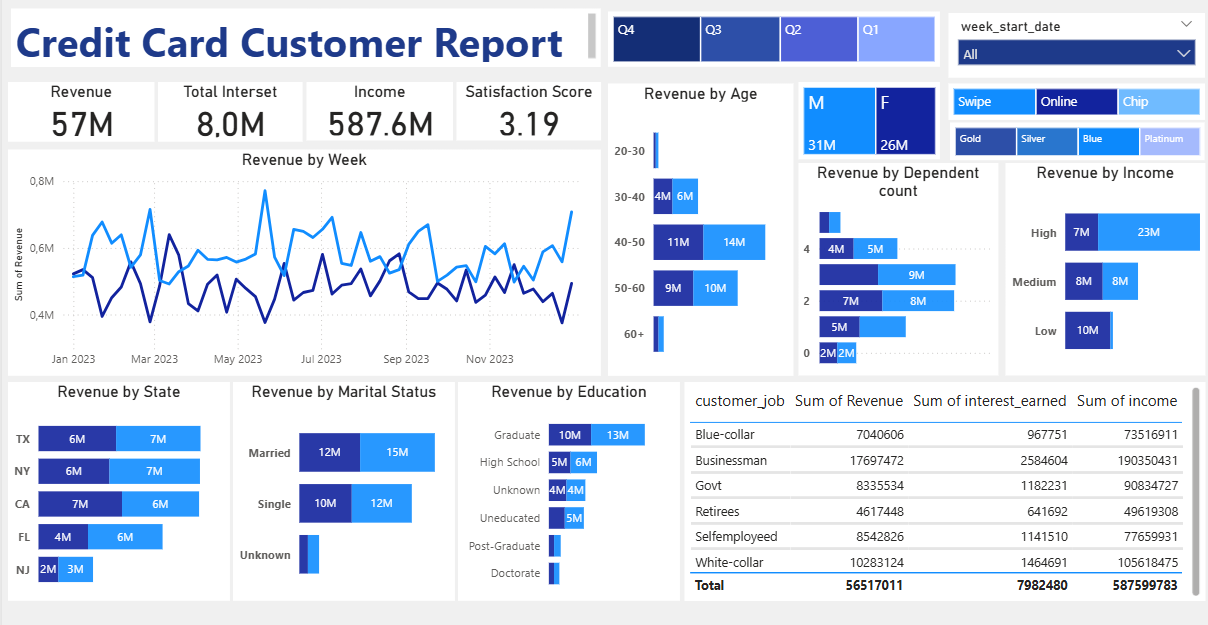

The page's visual inventory and layout, read from the dashboard file:
{"tool":"powerbi","page":{"name":"cc customer","canvas":[1280,720],"ordinal":2},"visuals":[{"type":"textbox","box":[10,0,625,61.7],"z":0},{"type":"barChart","title":"Revenue by Income","fields":{"Y":["Sum(public cc_detail.Revenue)"],"Category":["public cust_detail.IncomeGroup"],"Series":["public cust_detail.gender"]},"box":[1063.3,163.3,211.7,225],"z":1000},{"type":"tableEx","fields":{"Values":["public cust_detail.customer_job","Sum(public cc_detail.Revenue)","Sum(public cc_detail.interest_earned)","Sum(public cust_detail.income)"]},"box":[723.3,395,551.7,231.7],"z":2000},{"type":"card","title":"Revenue","fields":{"Values":["Sum(public cc_detail.Revenue)"]},"box":[6.7,76.7,155,63.3],"z":3000},{"type":"card","title":"Total Interset","fields":{"Values":["Sum(public cc_detail.interest_earned)"]},"box":[165,76.7,153.3,63.3],"z":4000},{"type":"card","title":"Income","fields":{"Values":["Sum(public cust_detail.income)"]},"box":[323.1,76.7,155,61.7],"z":5000},{"type":"card","title":"Satisfaction Score","fields":{"Values":["Avg(public cust_detail.cust_satisfaction_score)"]},"box":[481.5,76.7,153.3,61.7],"z":6000},{"type":"slicer","fields":{"Values":["public cc_detail.week_start_date"]},"box":[1003.3,5,271.7,68.3],"z":7000},{"type":"treemap","fields":{"Group":["public cc_detail.qtr"],"Values":["Avg(public cc_detail.client_num)"]},"box":[643.3,3.3,351.7,58.3],"z":8000},{"type":"treemap","fields":{"Group":["public cc_detail.card_category"],"Values":["Avg(public cc_detail.client_num)"]},"box":[1005,120,270,40],"z":9000},{"type":"treemap","fields":{"Group":["public cc_detail.use_chip"],"Values":["Avg(public cc_detail.client_num)"]},"box":[1003.3,78.3,271.7,38.3],"z":10000},{"type":"lineChart","title":"Revenue by Week","fields":{"Y":["Sum(public cc_detail.Revenue)"],"Series":["public cust_detail.gender"],"Category":["public cc_detail.week_start_date.Variation.Date Hierarchy.Year","public cc_detail.week_start_date.Variation.Date Hierarchy.Month","public cc_detail.week_start_date.Variation.Date Hierarchy.Day"]},"box":[6.7,148.3,628.3,240],"z":11000},{"type":"treemap","fields":{"Group":["public cust_detail.gender"],"Values":["Sum(public cc_detail.Revenue)"]},"box":[845,76.7,150,81.7],"z":12000},{"type":"barChart","title":"Revenue by Age","fields":{"Y":["Sum(public cc_detail.Revenue)"],"Category":["public cust_detail.AgeGroup"],"Series":["public cust_detail.gender"]},"box":[643.3,78.3,196.7,310],"z":13000},{"type":"barChart","title":"Revenue by Dependent count","fields":{"Y":["Sum(public cc_detail.Revenue)"],"Category":["public cust_detail.dependent_count"],"Series":["public cust_detail.gender"]},"box":[845,163.3,211.7,225],"z":14000},{"type":"barChart","title":"Revenue by Education","fields":{"Y":["Sum(public cc_detail.Revenue)"],"Category":["public cust_detail.education_level"],"Series":["public cust_detail.gender"]},"box":[483.3,395,235,231.7],"z":15000},{"type":"barChart","title":"Revenue by State","fields":{"Y":["Sum(public cc_detail.Revenue)"],"Category":["public cust_detail.state_cd"],"Series":["public cust_detail.gender"]},"box":[6.7,395,235,231.7],"z":16000},{"type":"barChart","title":"Revenue by Marital Status","fields":{"Y":["Sum(public cc_detail.Revenue)"],"Category":["public cust_detail.marital_status"],"Series":["public cust_detail.gender"]},"box":[245,395,235,231.7],"z":17000}]}

Visuals, with their boxes on the page's 1280x720 design canvas (x1, y1, x2, y2). These are canvas units, not pixel positions in the 1208x625 screenshot, which may show the page scaled, cropped or inside an application window:
textbox: x1=10 y1=0 x2=635 y2=62
"Revenue by Income" barChart: x1=1063 y1=163 x2=1275 y2=388
tableEx - public cust_detail.customer_job x Sum(public cc_detail.Revenue): x1=723 y1=395 x2=1275 y2=627
"Revenue" card: x1=7 y1=77 x2=162 y2=140
"Total Interset" card: x1=165 y1=77 x2=318 y2=140
"Income" card: x1=323 y1=77 x2=478 y2=138
"Satisfaction Score" card: x1=482 y1=77 x2=635 y2=138
slicer - public cc_detail.week_start_date: x1=1003 y1=5 x2=1275 y2=73
treemap - public cc_detail.qtr x Avg(public cc_detail.client_num): x1=643 y1=3 x2=995 y2=62
treemap - public cc_detail.card_category x Avg(public cc_detail.client_num): x1=1005 y1=120 x2=1275 y2=160
treemap - public cc_detail.use_chip x Avg(public cc_detail.client_num): x1=1003 y1=78 x2=1275 y2=117
"Revenue by Week" lineChart: x1=7 y1=148 x2=635 y2=388
treemap - public cust_detail.gender x Sum(public cc_detail.Revenue): x1=845 y1=77 x2=995 y2=158
"Revenue by Age" barChart: x1=643 y1=78 x2=840 y2=388
"Revenue by Dependent count" barChart: x1=845 y1=163 x2=1057 y2=388
"Revenue by Education" barChart: x1=483 y1=395 x2=718 y2=627
"Revenue by State" barChart: x1=7 y1=395 x2=242 y2=627
"Revenue by Marital Status" barChart: x1=245 y1=395 x2=480 y2=627
